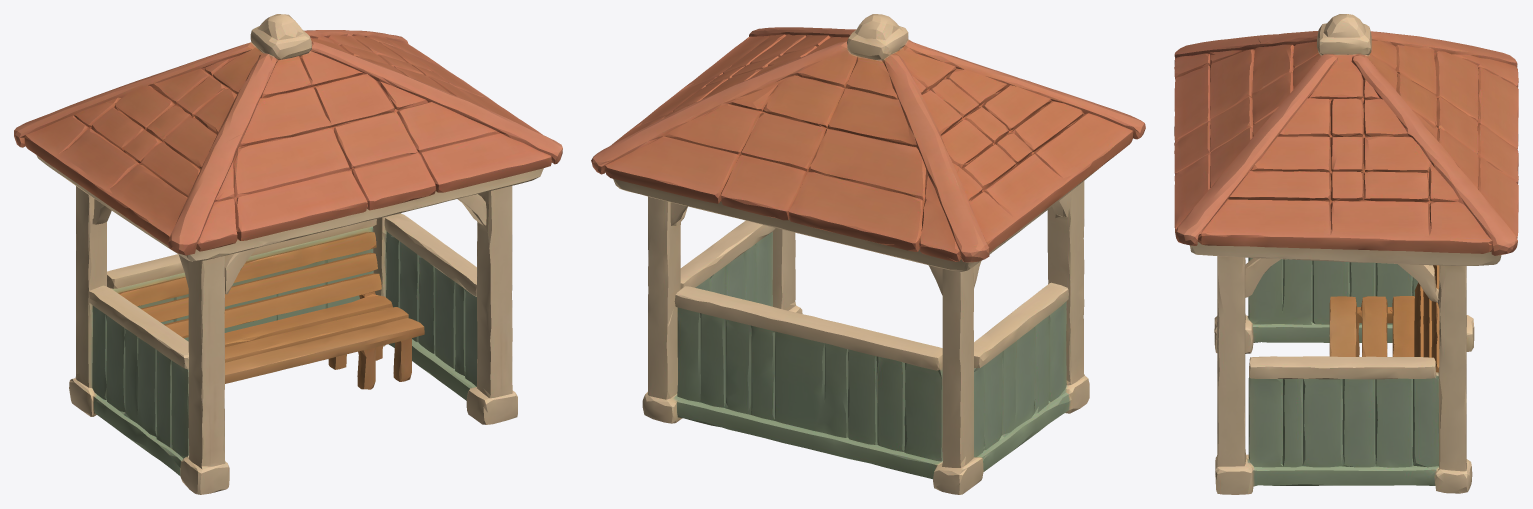
The model's file is pavilion.glb.
3 renders of one model, left to right at view 1: azimuth 30°, elevation 25°; view 2: azimuth 150°, elevation 25°; view 3: azimuth 270°, elevation 25°, orthographic.
Visible parts, largest first — view 1: Mesh; view 2: Mesh; view 3: Mesh.
Part boxes in pixels (x1,y1,x2,y2): Mesh: (14,14,562,494); Mesh: (591,14,1145,494); Mesh: (1174,14,1518,494).
Size of the model in its own units: 1.88 by 1.83 by 1.44.
1 material, 1 textured.
